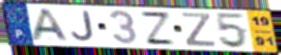3: (107, 9, 139, 46)
5: (213, 12, 251, 49)
A: (28, 8, 72, 43)
J: (70, 10, 96, 42)
Z: (138, 10, 178, 47), (180, 11, 218, 48)
